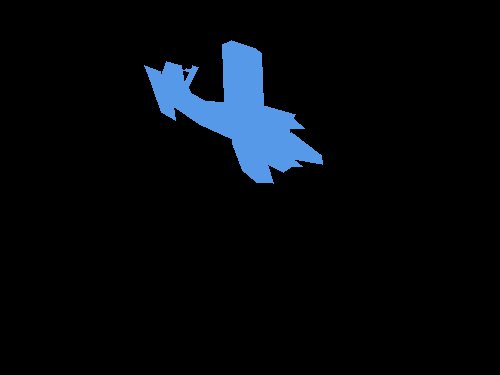Airplane: (144, 40, 323, 183)
